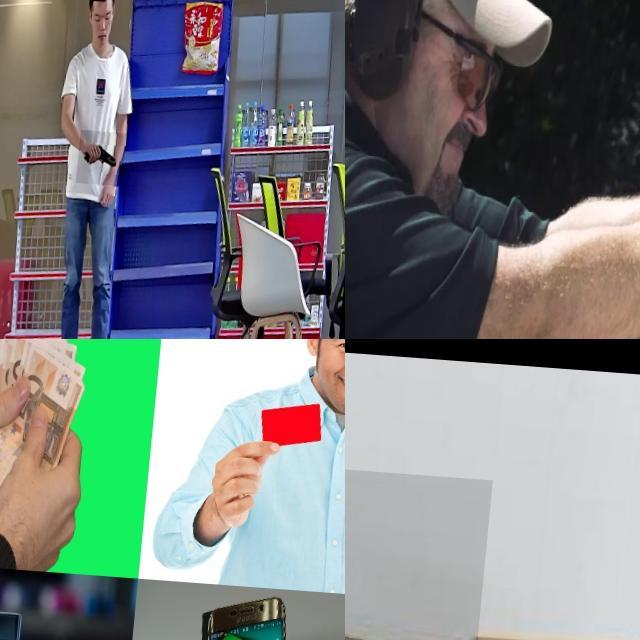-: (345, 450, 546, 640)
gun-knife-thesis - v11 Yolov5 augmented: (82, 124, 132, 180)
